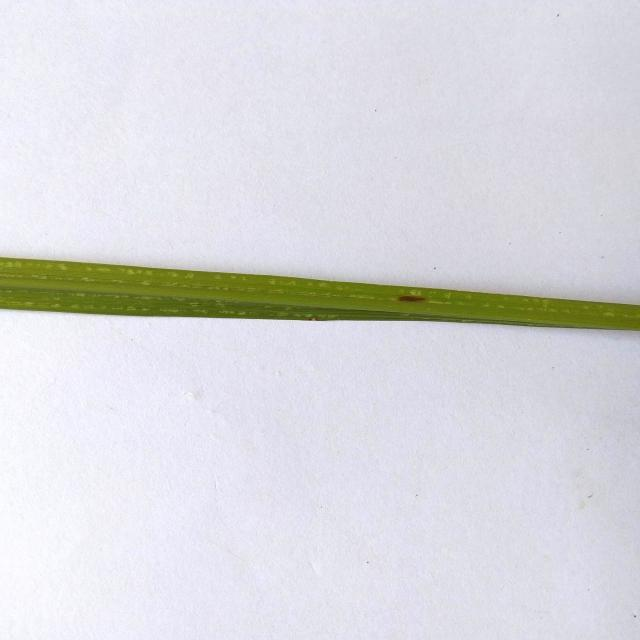brownspots: (392, 290, 436, 308)
